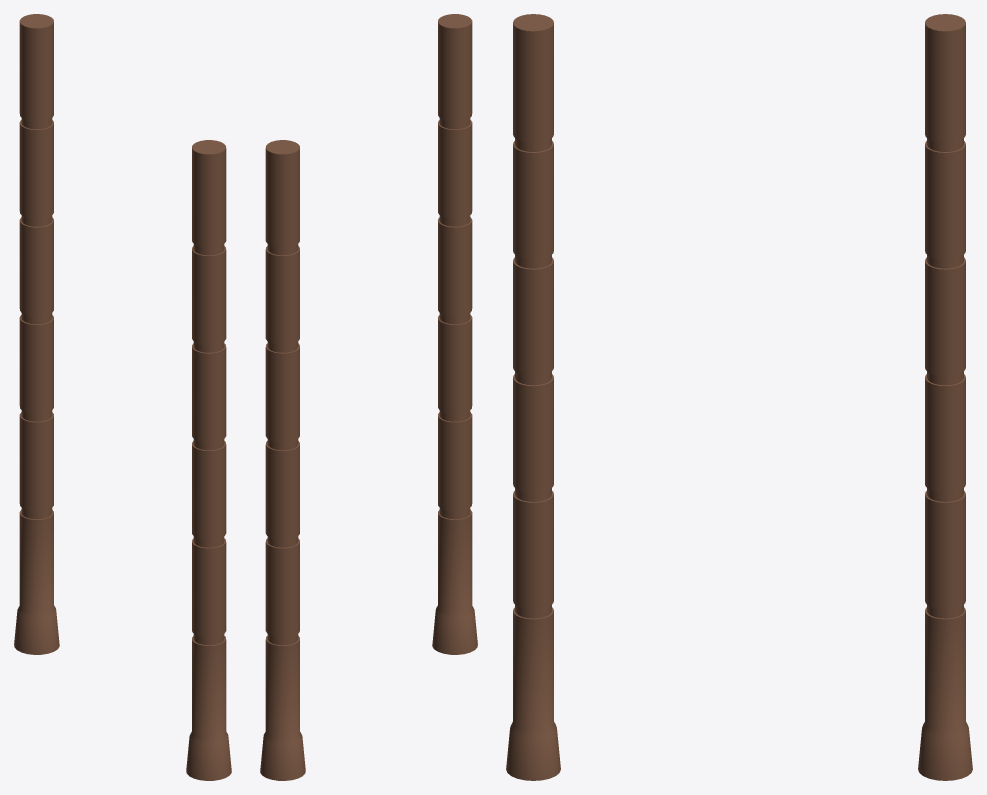
File: Temple_Column.fbx
3 views of the same model, side by side, from view 1: azimuth 30°, elevation 25°; view 2: azimuth 150°, elevation 25°; view 3: azimuth 270°, elevation 25° (orthographic). The views are drawn at different scales.
Parts seen in each view (by area): view 1: Column_small.001; view 2: Column_small.001; view 3: Column_small.001.
Part boxes in pixels (left/top/right/bottom): Column_small.001: left=14, top=14, right=231, bottom=780; Column_small.001: left=260, top=14, right=477, bottom=780; Column_small.001: left=506, top=14, right=972, bottom=780.
Size of the model in its own units: 2 by 30 by 17.
